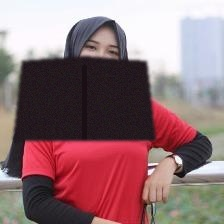Cadar_Niqab: (13, 14, 155, 140)
